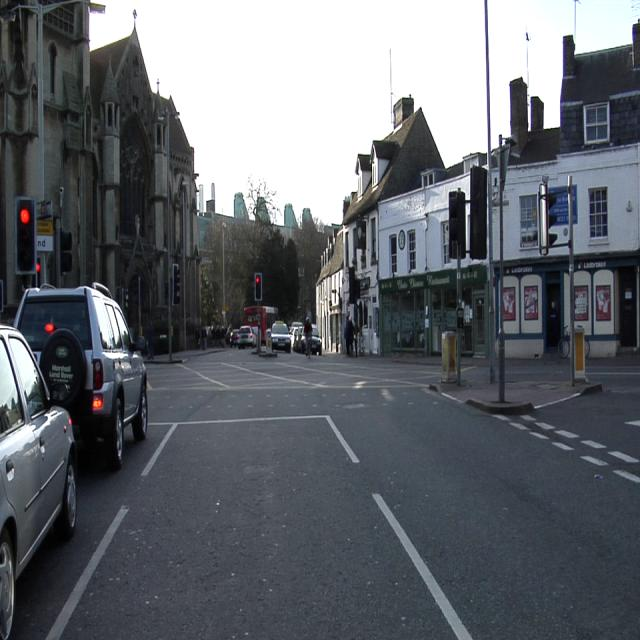Building: (377, 28, 638, 358), (0, 3, 200, 350), (317, 98, 442, 353), (200, 174, 331, 327)
Car: (14, 283, 149, 468), (0, 327, 78, 638), (269, 323, 291, 351), (235, 327, 255, 347), (311, 322, 321, 355)
Road: (14, 348, 639, 623)
Tree: (255, 230, 299, 321)
